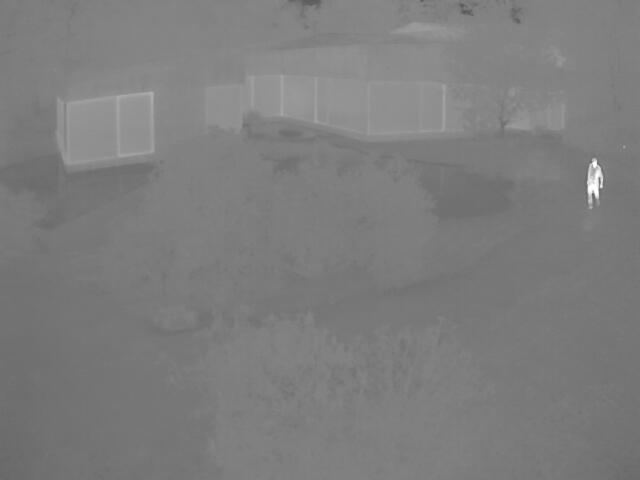person: (586, 157, 602, 210)
